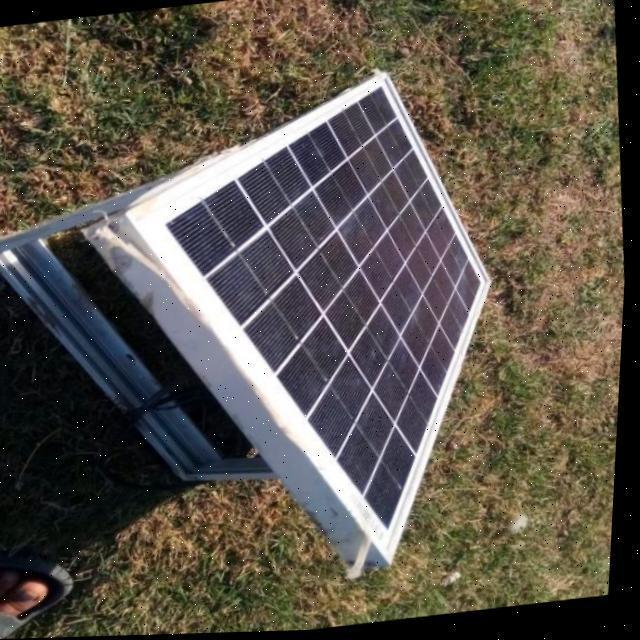Normal Solar Panel: (104, 63, 527, 594)
